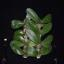leaf: (26, 7, 40, 24), (26, 28, 40, 45), (10, 43, 25, 55), (28, 19, 40, 32), (40, 22, 53, 34), (25, 46, 39, 57), (38, 46, 53, 56), (40, 35, 53, 45), (11, 20, 25, 28), (40, 14, 52, 23), (17, 35, 26, 44), (13, 30, 25, 36)
